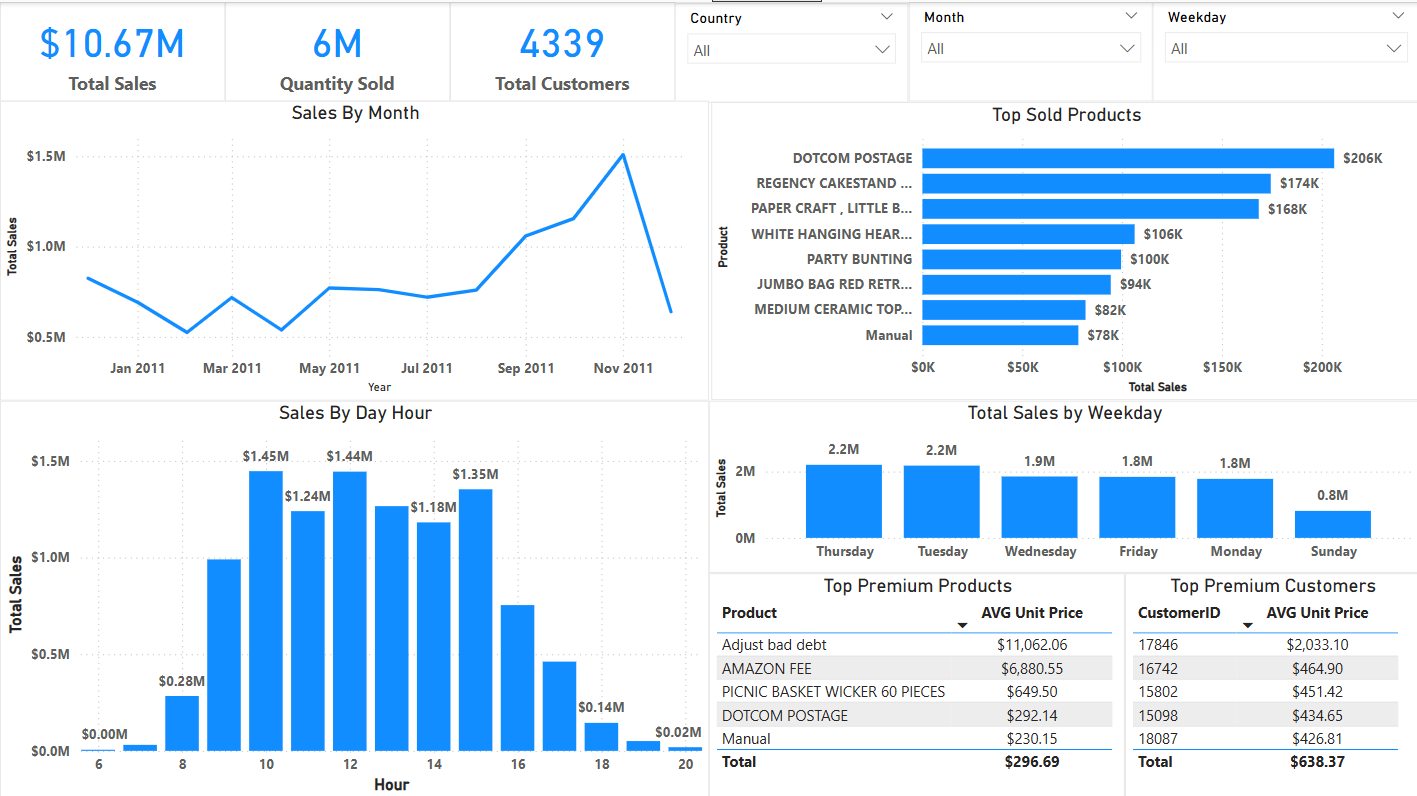

The dashboard page shown, as its layout file describes it:
{"tool":"powerbi","page":{"name":"Main","canvas":[1280,720],"ordinal":0},"visuals":[{"type":"card","fields":{"Values":["Sum(Online Retail.SalesAmount)"]},"box":[0,0,203,89.3],"z":0},{"type":"card","fields":{"Values":["Sum(Online Retail.Quantity)"]},"box":[203,0,203,89.3],"z":1000},{"type":"slicer","fields":{"Values":["Online Retail.Country"]},"box":[609,1.2,210.3,89.3],"z":2000},{"type":"slicer","fields":{"Values":["Online Retail.InvMonthName"]},"box":[819.3,0,220.1,89.3],"z":3000},{"type":"slicer","fields":{"Values":["Online Retail.invWeekDayName"]},"box":[1039.4,0,240.9,89.3],"z":4000},{"type":"lineChart","title":"Sales By Month","fields":{"Category":["Online Retail.InvoiceDate.Variation.Date Hierarchy.Year","Online Retail.InvoiceDate.Variation.Date Hierarchy.Month"],"Y":["Sum(Online Retail.SalesAmount)"]},"box":[0,89.2,639.5,270.3],"z":5000},{"type":"clusteredBarChart","title":"Top Sold Products","fields":{"Category":["Online Retail.Description"],"Y":["Sum(Online Retail.SalesAmount)"]},"box":[640.8,90.6,639.5,269],"z":6000},{"type":"columnChart","title":"Sales By Day Hour","fields":{"Category":["Online Retail.InvHour"],"Y":["Sum(Online Retail.SalesAmount)"]},"box":[0,359.5,639.5,360.9],"z":7000},{"type":"tableEx","title":"Top Premium Products","fields":{"Values":["Online Retail.Description","Online Retail.AVG Unit Price"]},"box":[639.5,514.8,375.4,205.4],"z":8000},{"type":"tableEx","title":"Top Premium Customers","fields":{"Values":["Online Retail.CustomerID","Online Retail.AVG Unit Price"]},"box":[1015,514.8,265.4,205.4],"z":9000},{"type":"columnChart","fields":{"Category":["Online Retail.invWeekDayName"],"Y":["Sum(Online Retail.SalesAmount)"]},"box":[639.5,359.5,640.8,155.1],"z":10000},{"type":"card","fields":{"Values":["Count(Online Retail.CustomerID)"]},"box":[406,0,203,89.3],"z":10001}]}

Visuals, with their boxes in screenshot pixels (x1, y1, x2, y2), scaled from the page's 1280x720 canvas onto the 1417x796 screenshot:
card - Sum(Online Retail.SalesAmount): box=[0, 0, 225, 99]
card - Sum(Online Retail.Quantity): box=[225, 0, 449, 99]
slicer - Online Retail.Country: box=[674, 1, 907, 100]
slicer - Online Retail.InvMonthName: box=[907, 0, 1151, 99]
slicer - Online Retail.invWeekDayName: box=[1151, 0, 1416, 99]
"Sales By Month" lineChart: box=[0, 99, 708, 397]
"Top Sold Products" clusteredBarChart: box=[709, 100, 1416, 398]
"Sales By Day Hour" columnChart: box=[0, 397, 708, 795]
"Top Premium Products" tableEx: box=[708, 569, 1124, 795]
"Top Premium Customers" tableEx: box=[1124, 569, 1416, 795]
columnChart - Online Retail.invWeekDayName x Sum(Online Retail.SalesAmount): box=[708, 397, 1416, 569]
card - Count(Online Retail.CustomerID): box=[449, 0, 674, 99]
